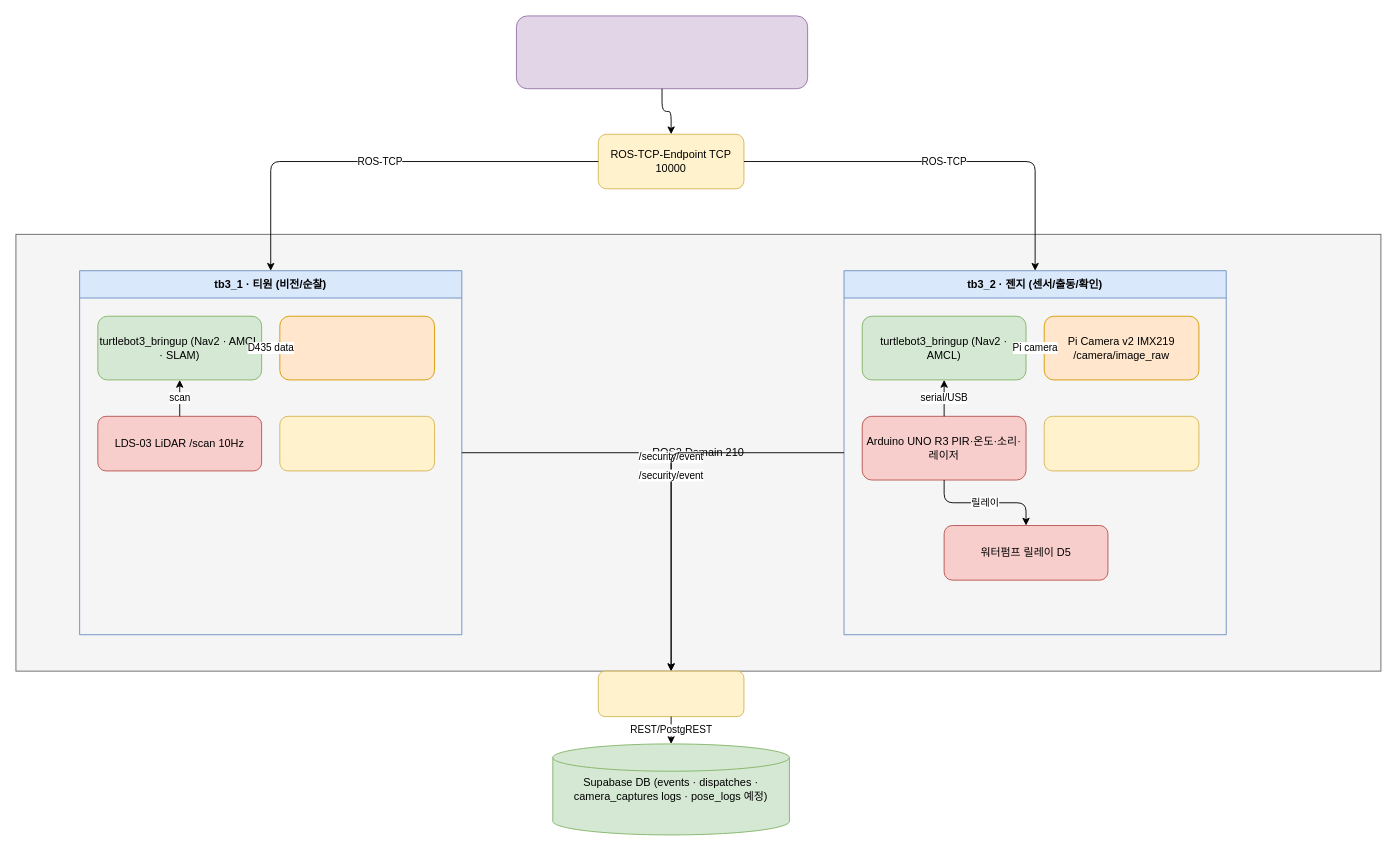
Some shapes in this 1397 by 851 pixel diagram are drawn without their labels. The centre of each missing label's shape, as x and y in pixels:
DB Writer (ROS2 node): (670,693)
Intel RealSense D435 RGB-D / YOLO 4클: (357,347)
robot_pose_publisher /tf → /tb3_1/pose: (357,443)
robot_pose_publisher /tf → /tb3_2/pose: (1121,443)
Unity ControlRoom (Mac · UI Toolkit · ROS-TCP-Connector): (662,52)
